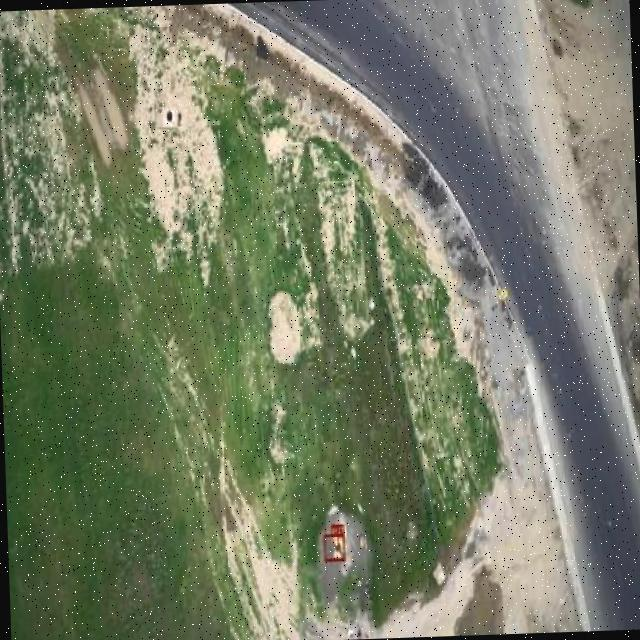fire: (324, 532, 346, 561)
